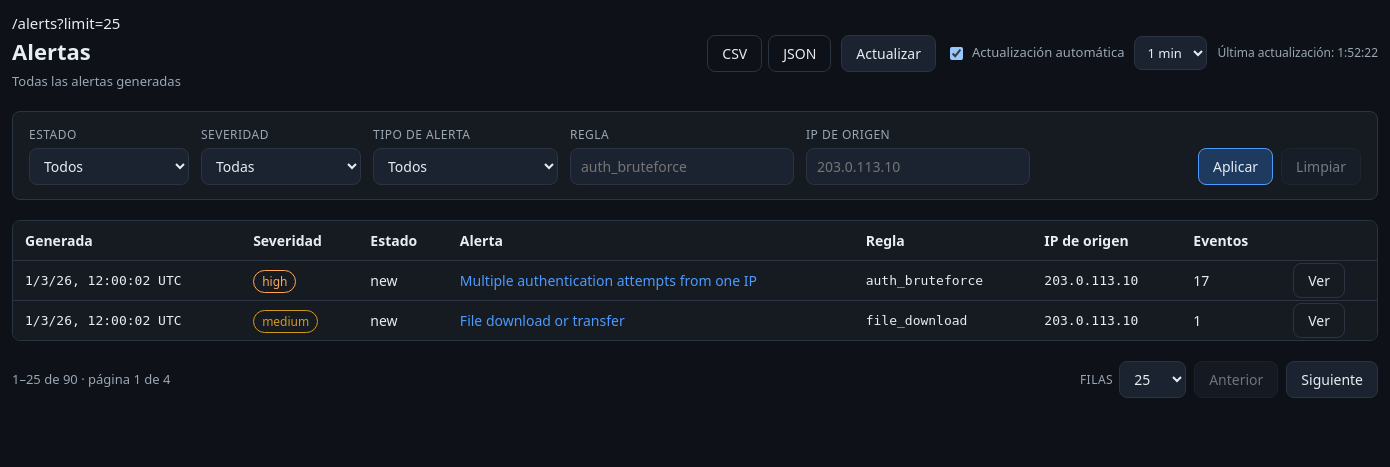
Scenario: RF-13 consulta de alertas › vuelve a la primera página al cambiar los filtros
This screenshot has width=1390, height=467.
Click the button "Siguiente" at (1332,380), box [1286,361,1378,398]
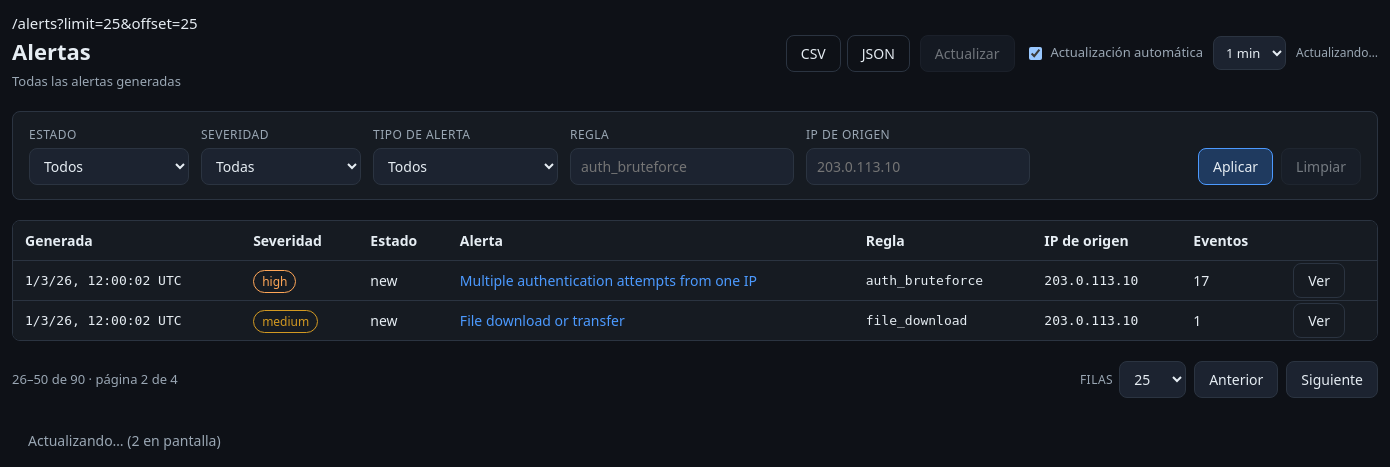
Now the text with test id "location" shows "offset=25", box [12,13,198,33]
Select "low" in the dropdown labelled "Severidad" at (281,166), box [201,148,361,185]
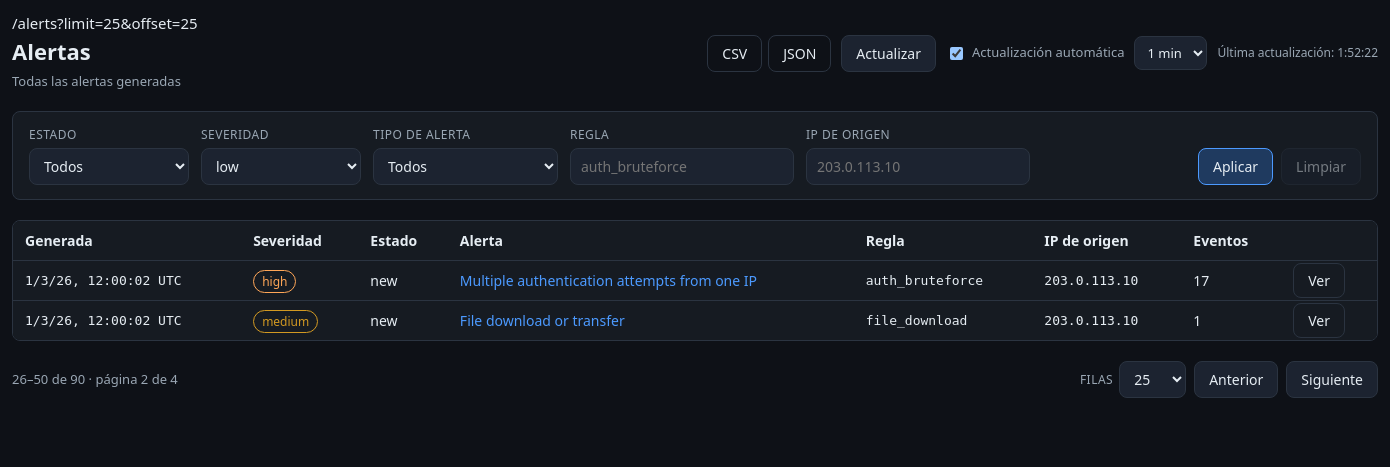
Click the button "Aplicar" at (1236,166), box [1198,148,1273,185]
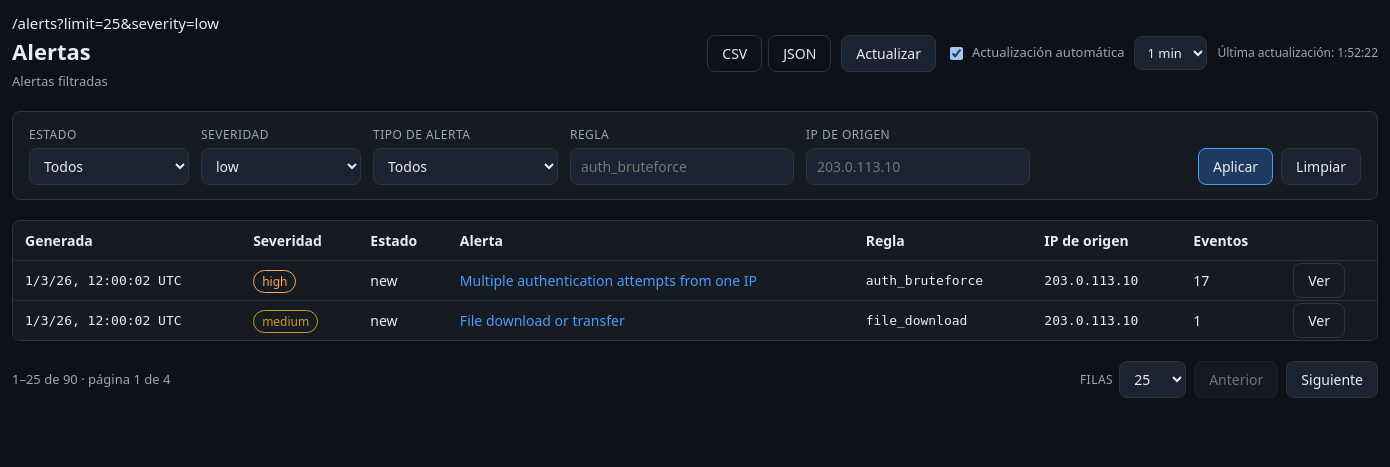
Now the text with test id "location" no longer shows "offset"
